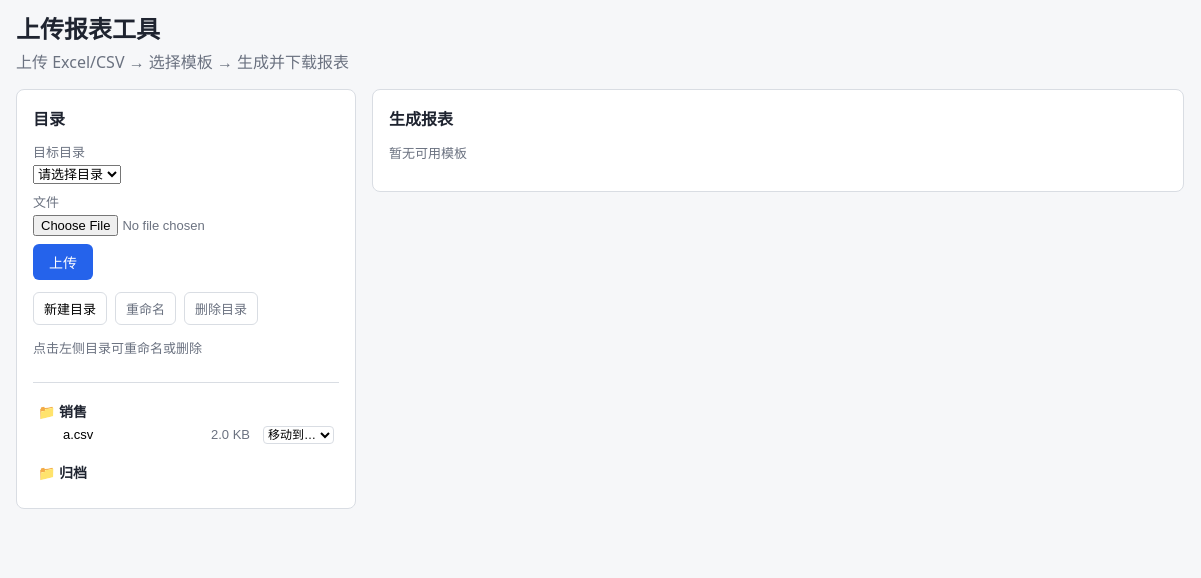
Scenario: create directory form renders and submits
Click the button "新建目录" at [70, 308], box [33,292,107,325]
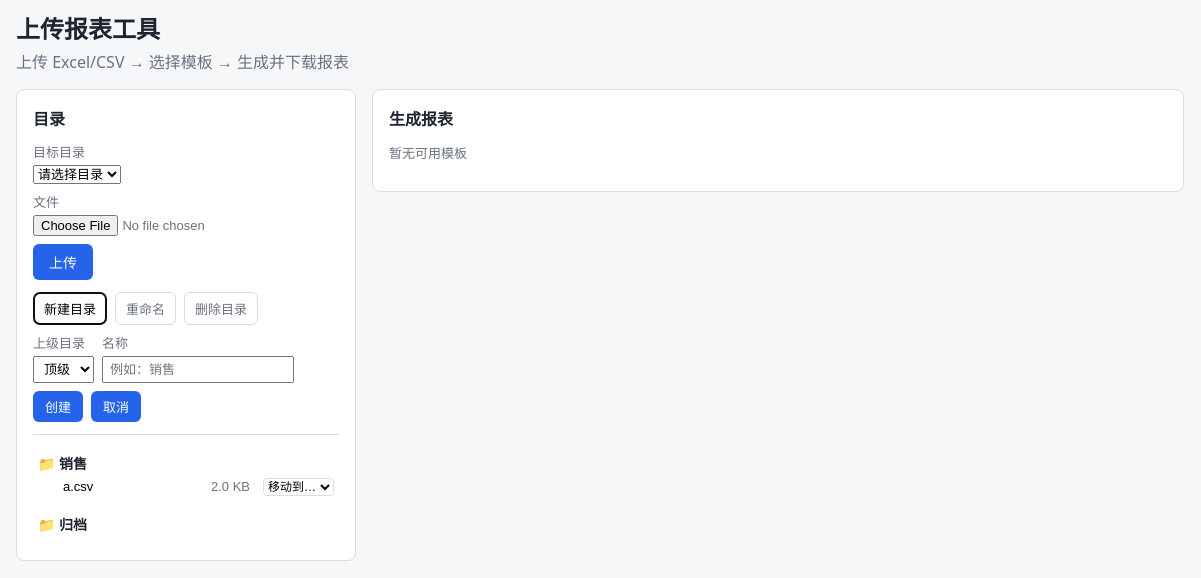
Expected: the field named "目录名称" is shown
Expected: the dropdown labelled "上级目录" is shown, [33,356,94,383]
Type "新目录" into the field named "目录名称" at [198, 370], box [102,356,294,383]
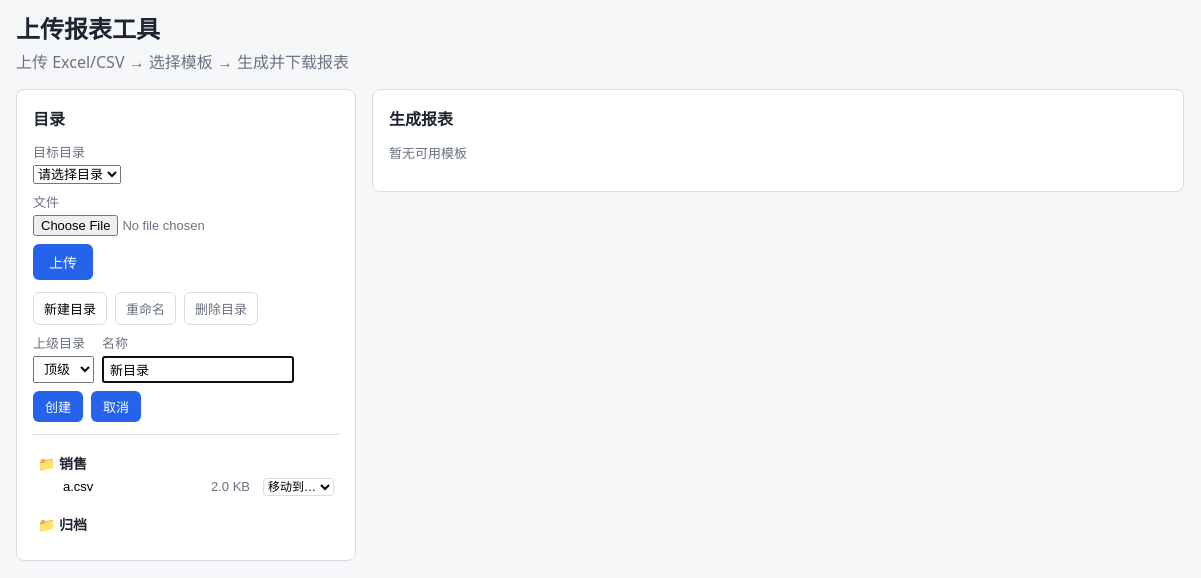
Click the button "创建" at [58, 406], box [33,391,83,422]
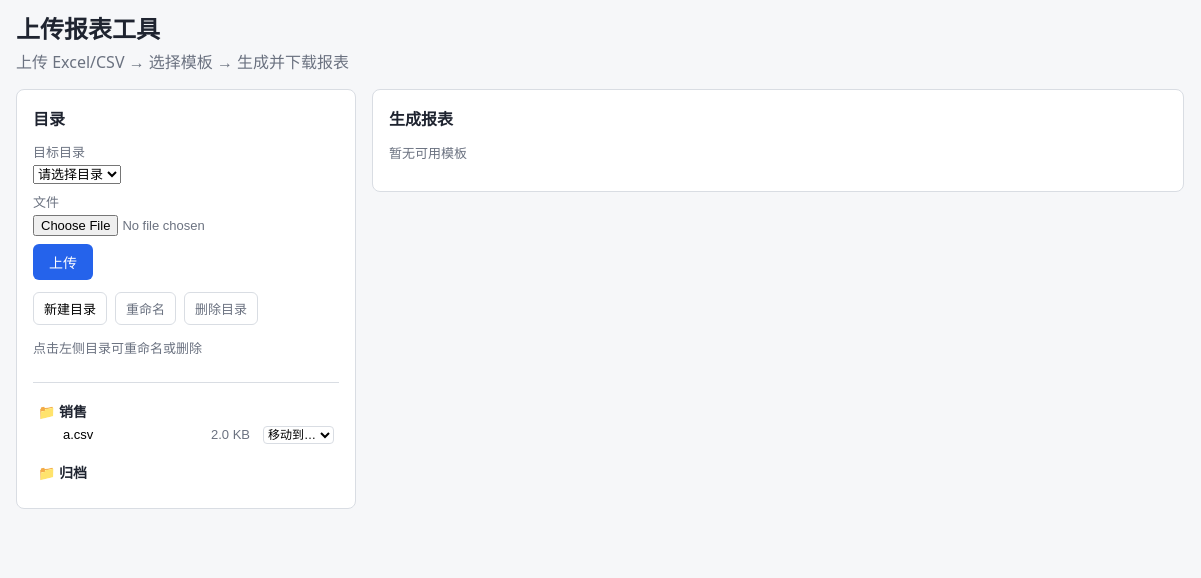
Expected: the field labelled "目录名称" is gone
